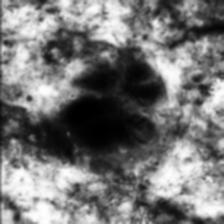Potentially Malignant Skin Tumors: (52, 47, 160, 154)
